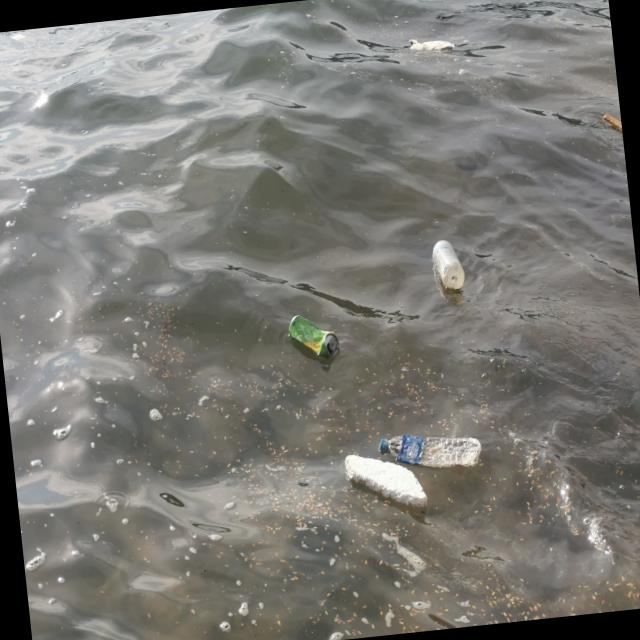can: (285, 308, 339, 366)
foam: (344, 445, 432, 519), (408, 36, 453, 57)
plastic: (378, 425, 482, 480), (429, 238, 464, 294)
unknow: (600, 112, 622, 136)
